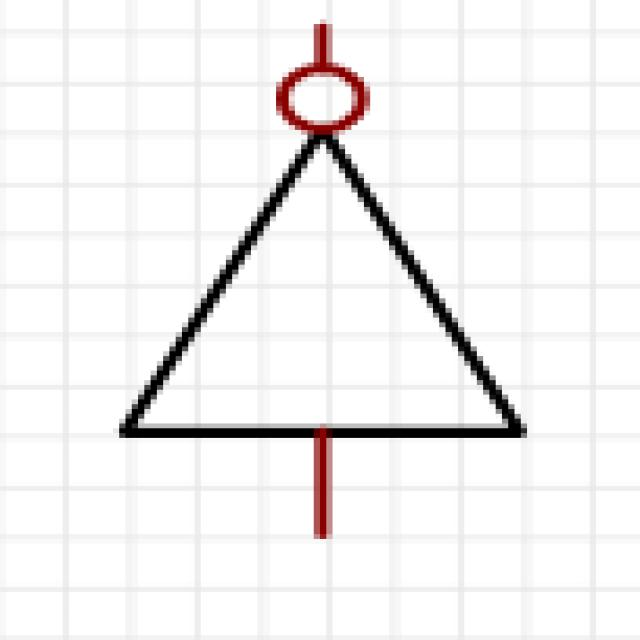inverter: (96, 11, 590, 552)
